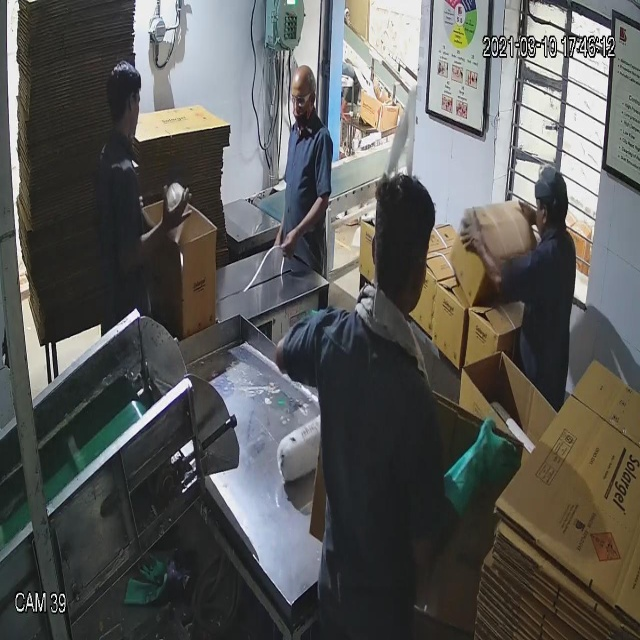Guantes: (438, 401, 527, 526)
Sin_guantes: (112, 181, 200, 275), (270, 188, 345, 265), (458, 198, 508, 301)
